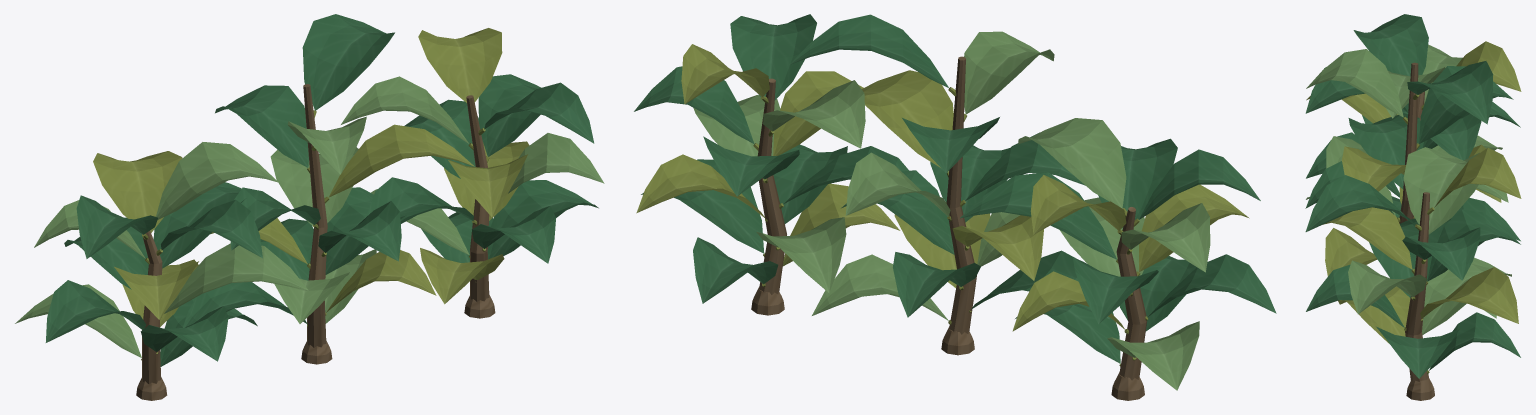
Rendered from AST-BOT-002_pool_middle_00.glb.
3 views of the same model, side by side, from view 1: azimuth 30°, elevation 25°; view 2: azimuth 150°, elevation 25°; view 3: azimuth 270°, elevation 25° (orthographic). The views are drawn at different scales.
Parts seen in each view (by area): view 1: RT_AST-BOT-002_pool_middle_00__leaf_jade, RT_AST-BOT-002_pool_middle_00__leaf_sage, RT_AST-BOT-002_pool_middle_00__leaf_olive, RT_AST-BOT-002_pool_middle_00__bark; view 2: RT_AST-BOT-002_pool_middle_00__leaf_jade, RT_AST-BOT-002_pool_middle_00__leaf_sage, RT_AST-BOT-002_pool_middle_00__leaf_olive, RT_AST-BOT-002_pool_middle_00__bark; view 3: RT_AST-BOT-002_pool_middle_00__leaf_jade, RT_AST-BOT-002_pool_middle_00__leaf_olive, RT_AST-BOT-002_pool_middle_00__leaf_sage, RT_AST-BOT-002_pool_middle_00__bark.
Boxes of the visible parts, x1=… form: RT_AST-BOT-002_pool_middle_00__leaf_jade: x1=45, y1=14, x2=598, y2=366; RT_AST-BOT-002_pool_middle_00__leaf_sage: x1=15, y1=76, x2=604, y2=357; RT_AST-BOT-002_pool_middle_00__leaf_olive: x1=93, y1=28, x2=529, y2=360; RT_AST-BOT-002_pool_middle_00__bark: x1=136, y1=84, x2=495, y2=400; RT_AST-BOT-002_pool_middle_00__leaf_jade: x1=634, y1=14, x2=1276, y2=363; RT_AST-BOT-002_pool_middle_00__leaf_sage: x1=693, y1=31, x2=1210, y2=390; RT_AST-BOT-002_pool_middle_00__leaf_olive: x1=636, y1=44, x2=1249, y2=366; RT_AST-BOT-002_pool_middle_00__bark: x1=751, y1=56, x2=1147, y2=400; RT_AST-BOT-002_pool_middle_00__leaf_jade: x1=1305, y1=14, x2=1520, y2=378; RT_AST-BOT-002_pool_middle_00__leaf_olive: x1=1306, y1=41, x2=1521, y2=374; RT_AST-BOT-002_pool_middle_00__leaf_sage: x1=1306, y1=44, x2=1511, y2=334; RT_AST-BOT-002_pool_middle_00__bark: x1=1399, y1=62, x2=1434, y2=400.
Size of the model in its own units: 2.09 by 1.04 by 0.74.
4 materials, 4 textured.
